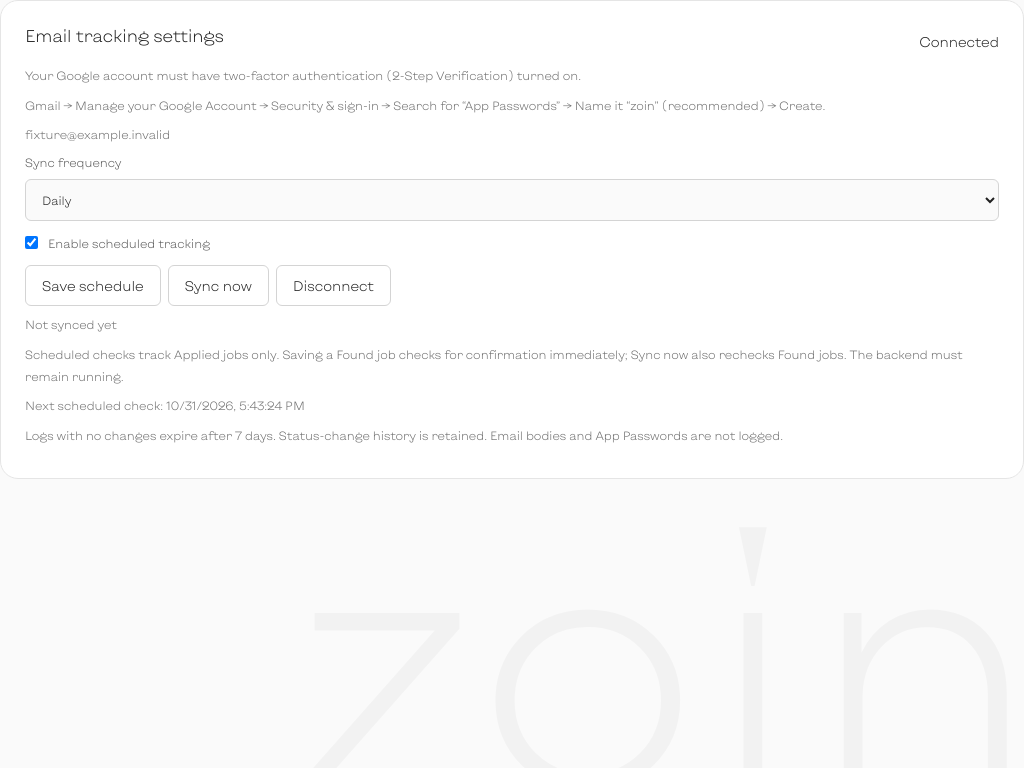
Test: sync errors are visible without claiming a successful sync
Step 1. Click the button "Sync now" → click(218, 286), box x1=168 y1=265 x2=269 y2=306
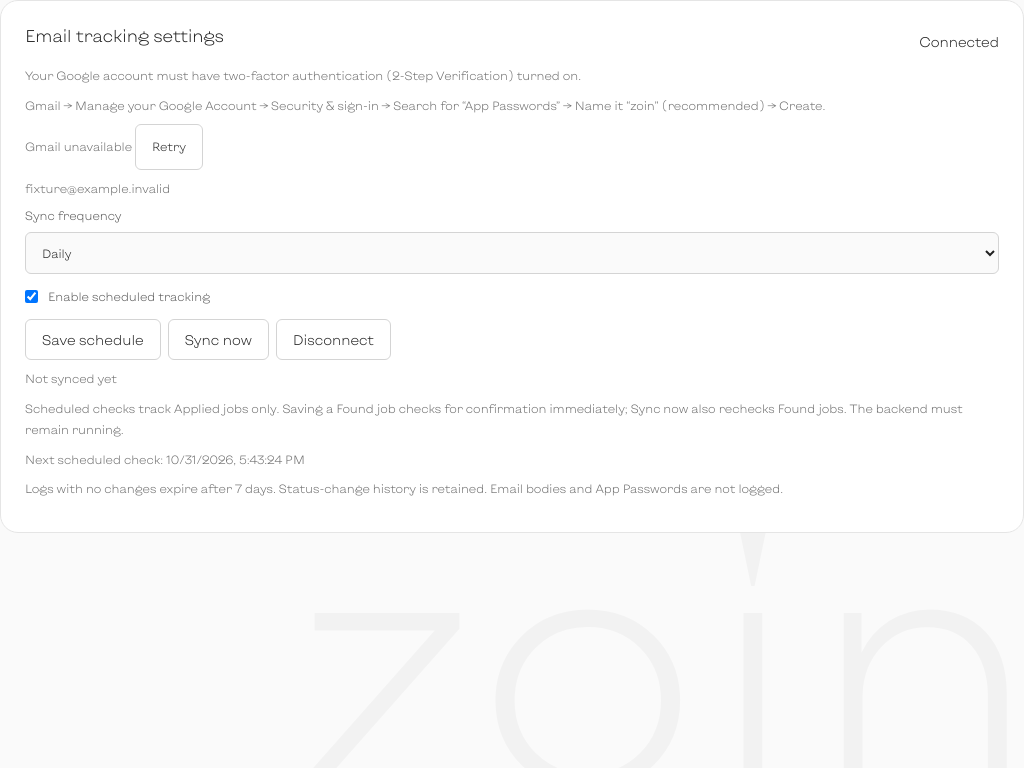
Expected: the text "Not synced yet" is shown, x1=25 y1=371 x2=117 y2=385
Result: the text "Gmail unavailable Retry" is shown at x1=25 y1=124 x2=203 y2=170
